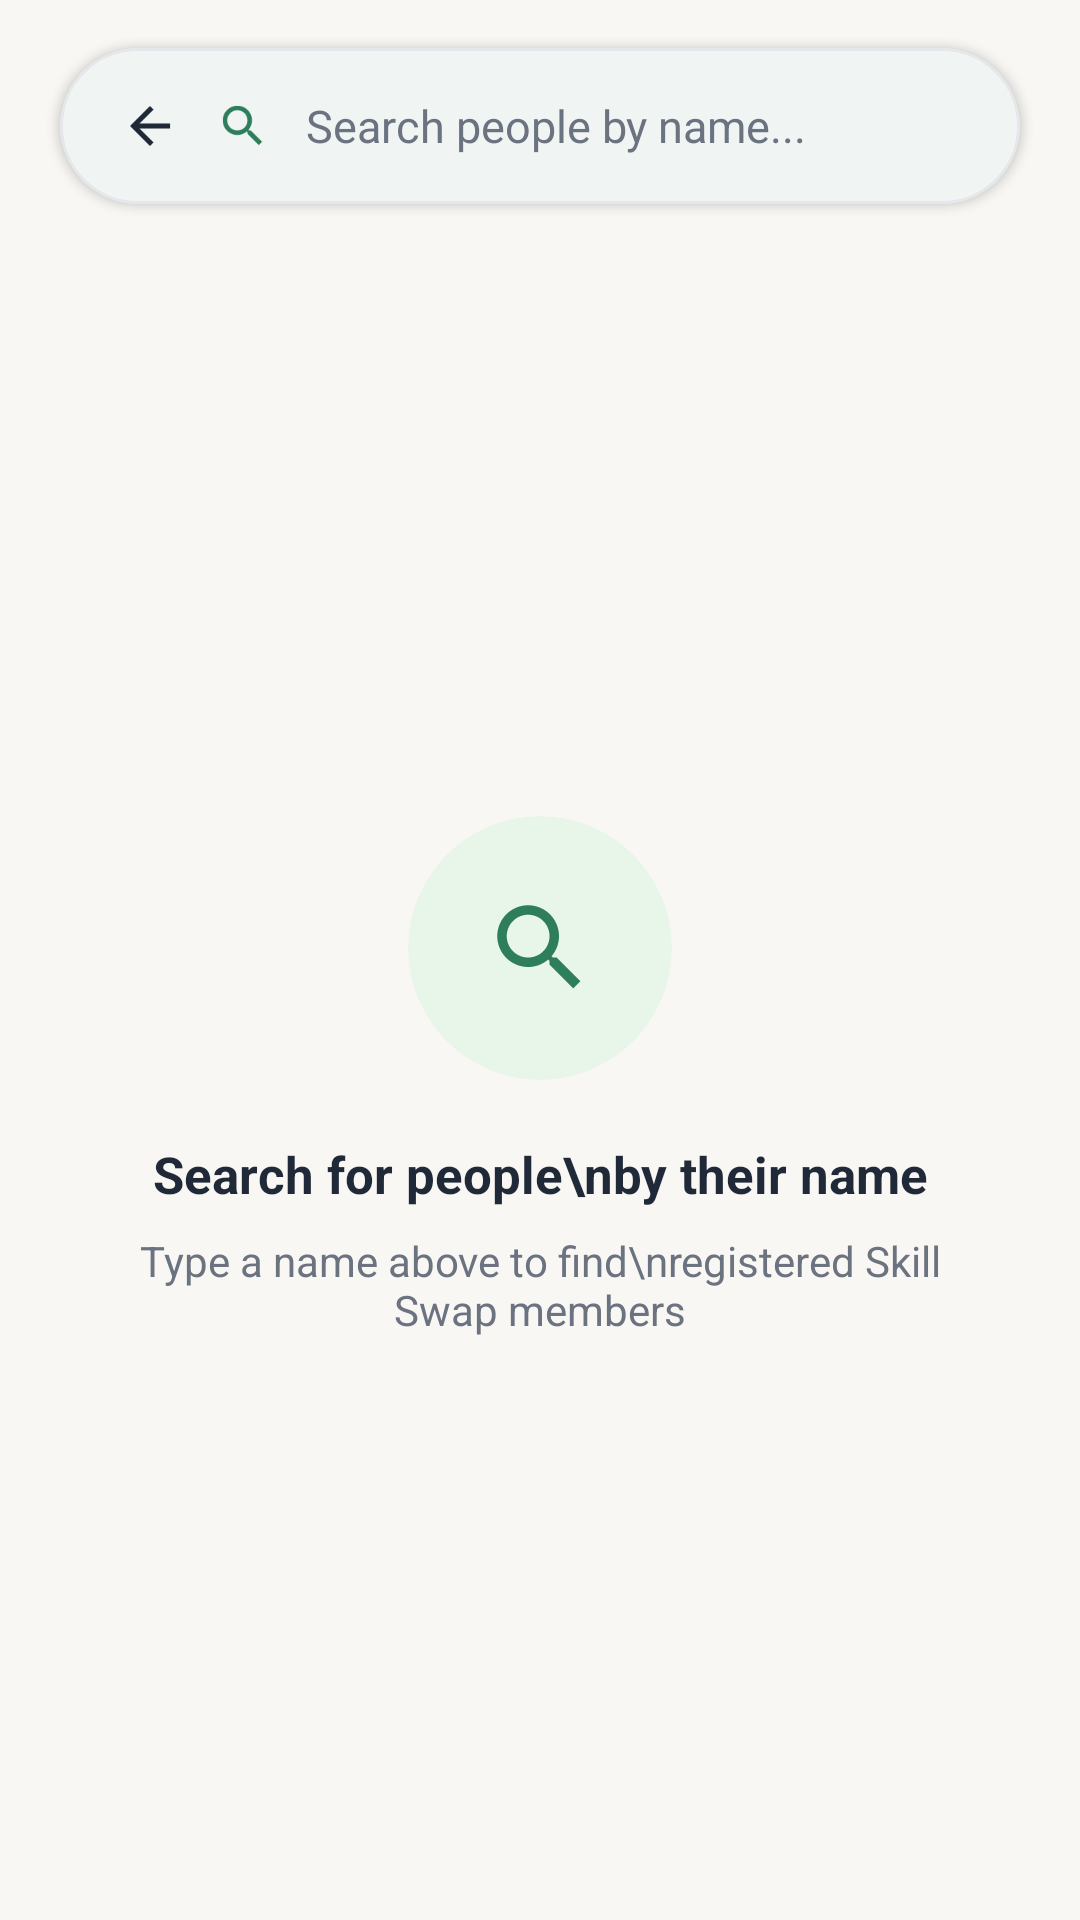

Icons on this 1080px×1920px Android screen, each with its box as bbox(x1, y1, x2, y2):
Back to Home: bbox(130, 106, 170, 146)
